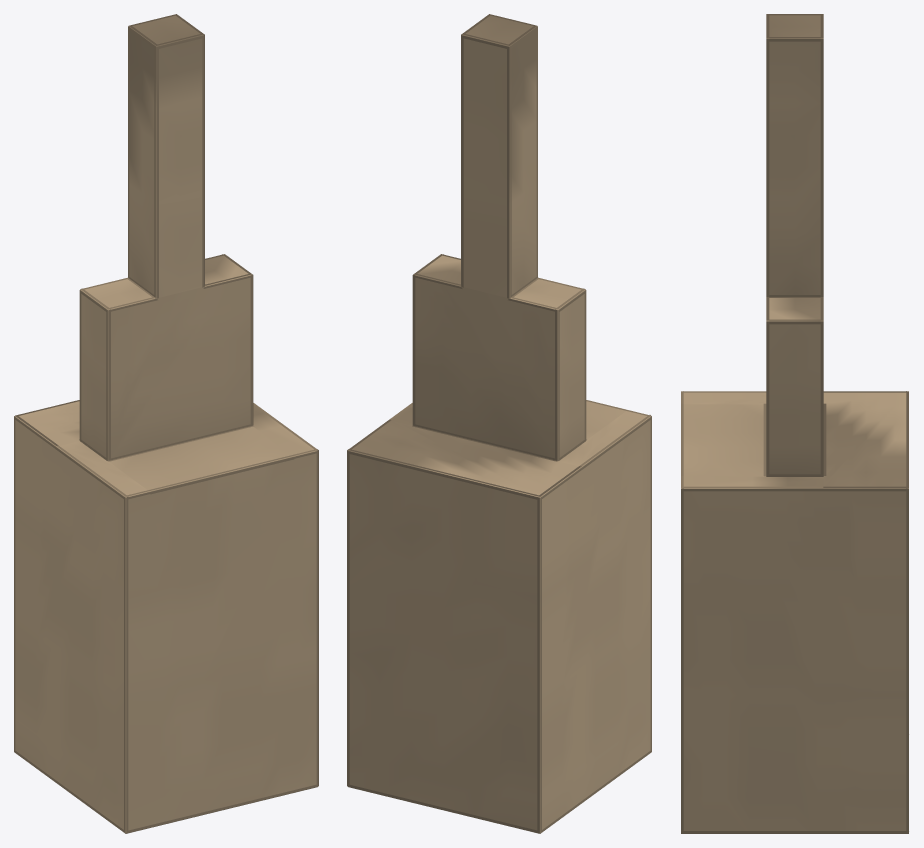
The model's file is post.glb.
The picture shows the model from 3 angles, left to right: view 1: azimuth 30°, elevation 25°; view 2: azimuth 150°, elevation 25°; view 3: azimuth 270°, elevation 25°; orthographic projection. The views are drawn at different scales.
Parts seen in each view (by area): view 1: post; view 2: post; view 3: post.
Boxes of the visible parts, bbox=[...] form: post: bbox=[14, 14, 318, 833]; post: bbox=[347, 14, 651, 833]; post: bbox=[681, 14, 908, 833].
Size of the model in its own units: 0.1208 by 0.4408 by 0.1208.
